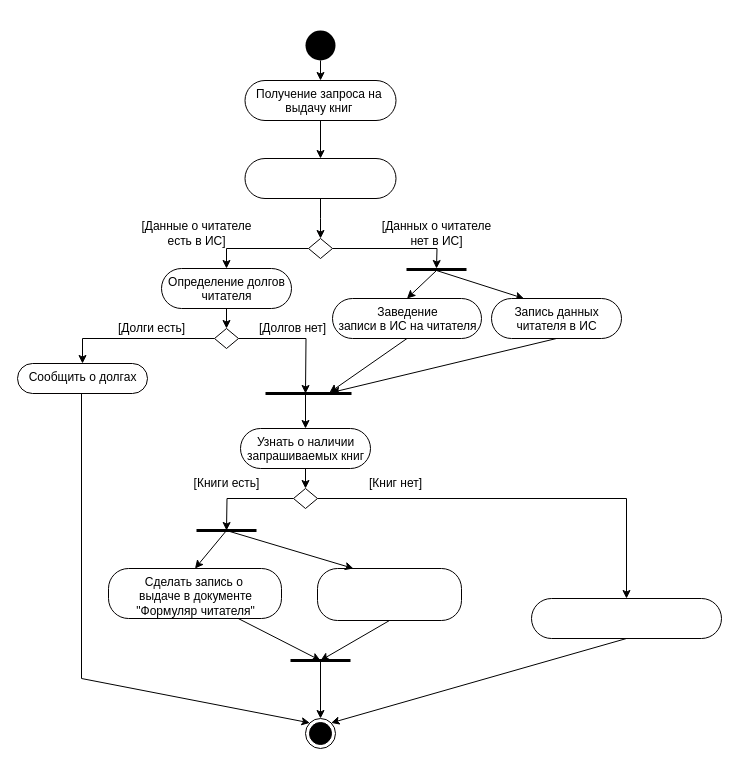
Image size: 739x766. Some labels were removed from this diagram. Each missing label, with the box of its shape:
Выдать книги: (316, 568, 462, 620)
Проверка наличия записи о читателе в ИС: (244, 158, 396, 198)
Сообщить о предполагаемой дате наличия книги: (530, 598, 722, 638)
